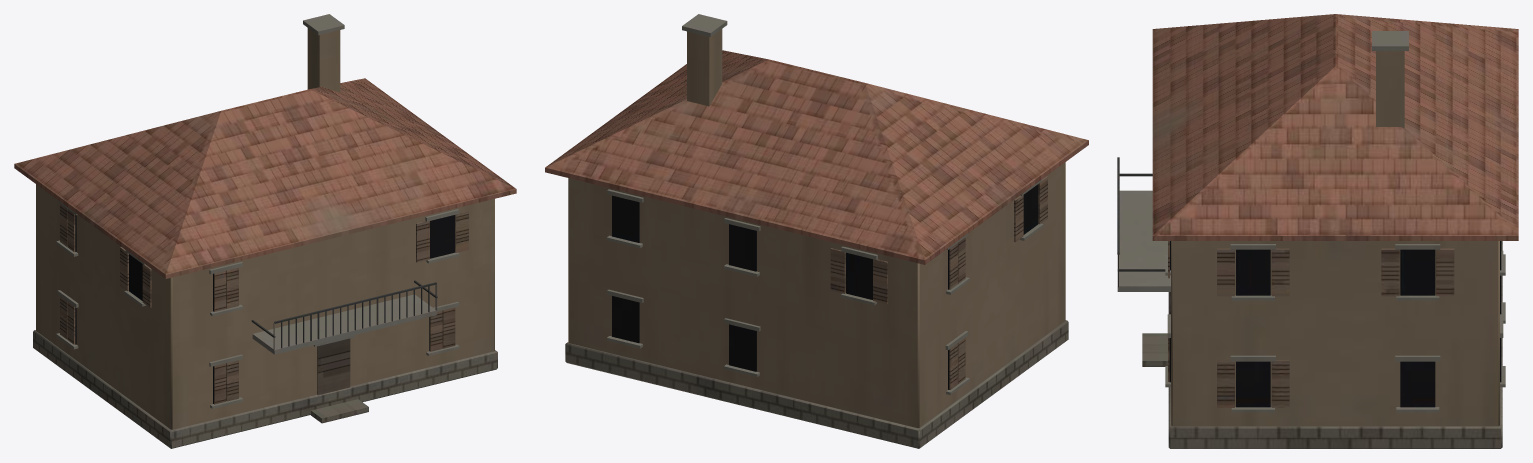
Rendered from a16_house_5.glb.
3 views of the same model, side by side, from view 1: azimuth 30°, elevation 25°; view 2: azimuth 150°, elevation 25°; view 3: azimuth 270°, elevation 25° (orthographic). The views are drawn at different scales.
Visible parts, largest first — view 1: body; view 2: body; view 3: body.
Boxes of the visible parts, x1,y1,x2,y2 form: body: [14, 14, 516, 448]; body: [545, 14, 1088, 448]; body: [1117, 14, 1518, 448].
Bounding box in the file's own units: 1 × 0.8168 × 0.8197.
1 material, 1 textured.
